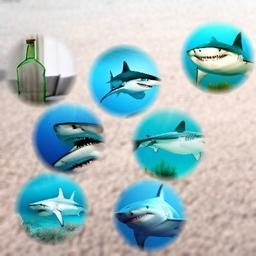not an animal: (12, 37, 54, 104)
